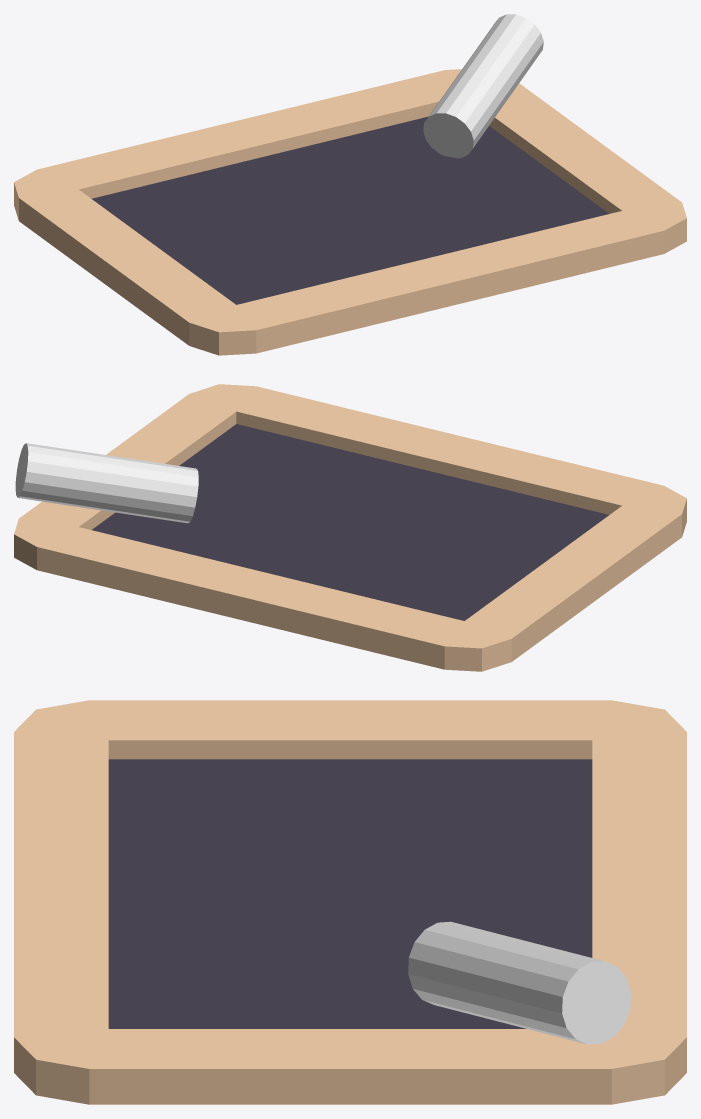
File: c0cb7ad4-0aeb-4315-97eb-7c677c45702c.glb
3 renders of one model, top to bottom at view 1: azimuth 30°, elevation 25°; view 2: azimuth 150°, elevation 25°; view 3: azimuth 270°, elevation 25°, orthographic. The views are drawn at different scales.
Parts seen in each view (by area): view 1: Message_Board; view 2: Message_Board; view 3: Message_Board.
Part boxes in pixels (box(x1,y1,x2,y2)): Message_Board: box(14, 14, 686, 355); Message_Board: box(14, 384, 686, 671); Message_Board: box(14, 700, 686, 1104).
Size of the model in its own units: 142 by 24.49 by 106.
Materials: 1 (1 with a texture image).
